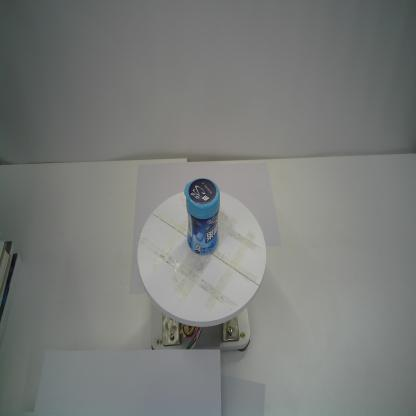Gum: (184, 178, 220, 256)
